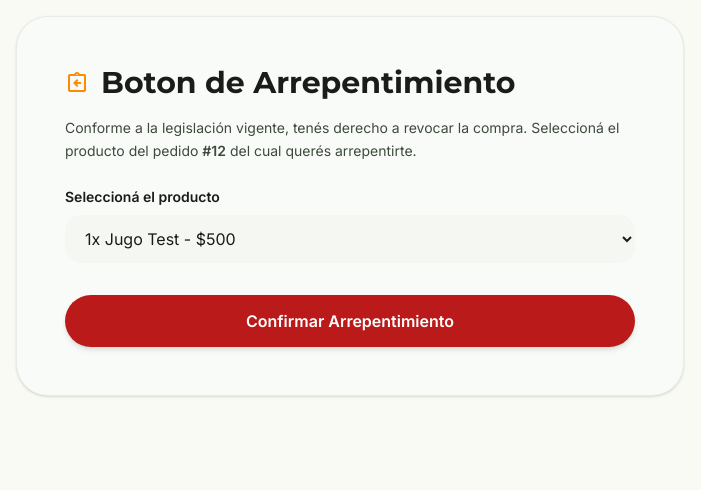
Test case: Arrepentimiento › muestra el código de reembolso al confirmar
Note: Hacemos clic en el botón de confirmar
Click the button "Confirmar Arrepentimiento" at [350, 320], box [65,294,635,346]
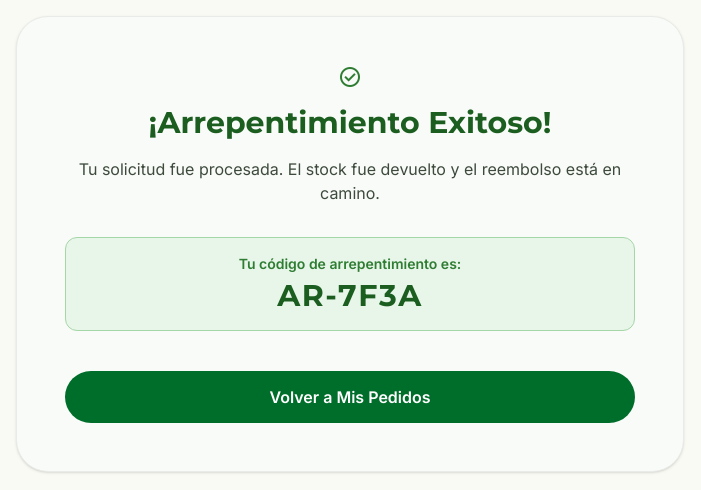
Now the text "AR-7F3A" is shown, box [277,277,423,314]
